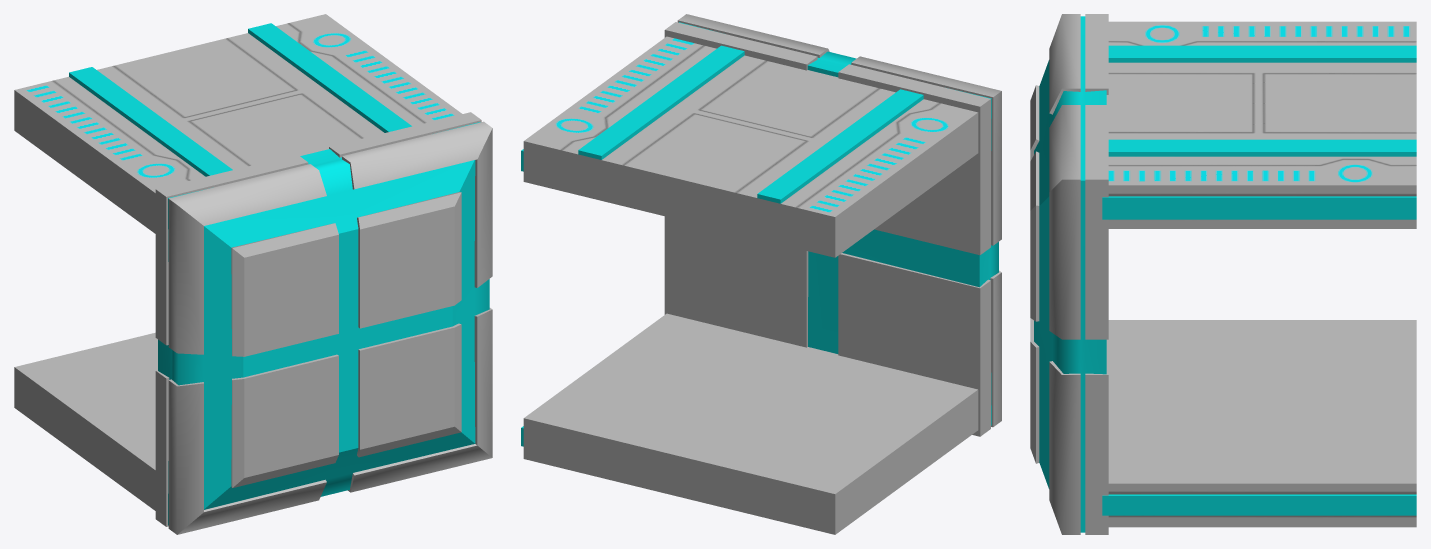
The model's file is movable edge.fbx.
The picture shows the model from 3 angles, left to right: view 1: azimuth 30°, elevation 25°; view 2: azimuth 150°, elevation 25°; view 3: azimuth 270°, elevation 25°; orthographic projection. The views are drawn at different scales.
Visible parts, largest first — view 1: left_side, middle; view 2: middle, left_side; view 3: middle, left_side.
Part boxes in pixels (<box>): left_side: <box>155,112,492,534</box>; middle: <box>14,14,462,510</box>; middle: <box>521,36,978,534</box>; left_side: <box>664,14,1001,436</box>; middle: <box>1102,21,1416,527</box>; left_side: <box>1030,14,1108,534</box>.
Bounding box in the file's own units: 10.15 × 10.13 × 9.97.
